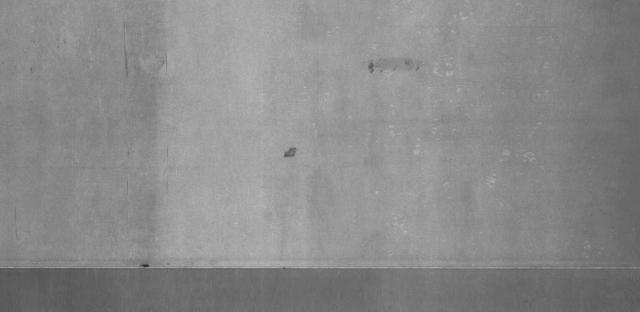welding_line: (5, 256, 640, 275)
